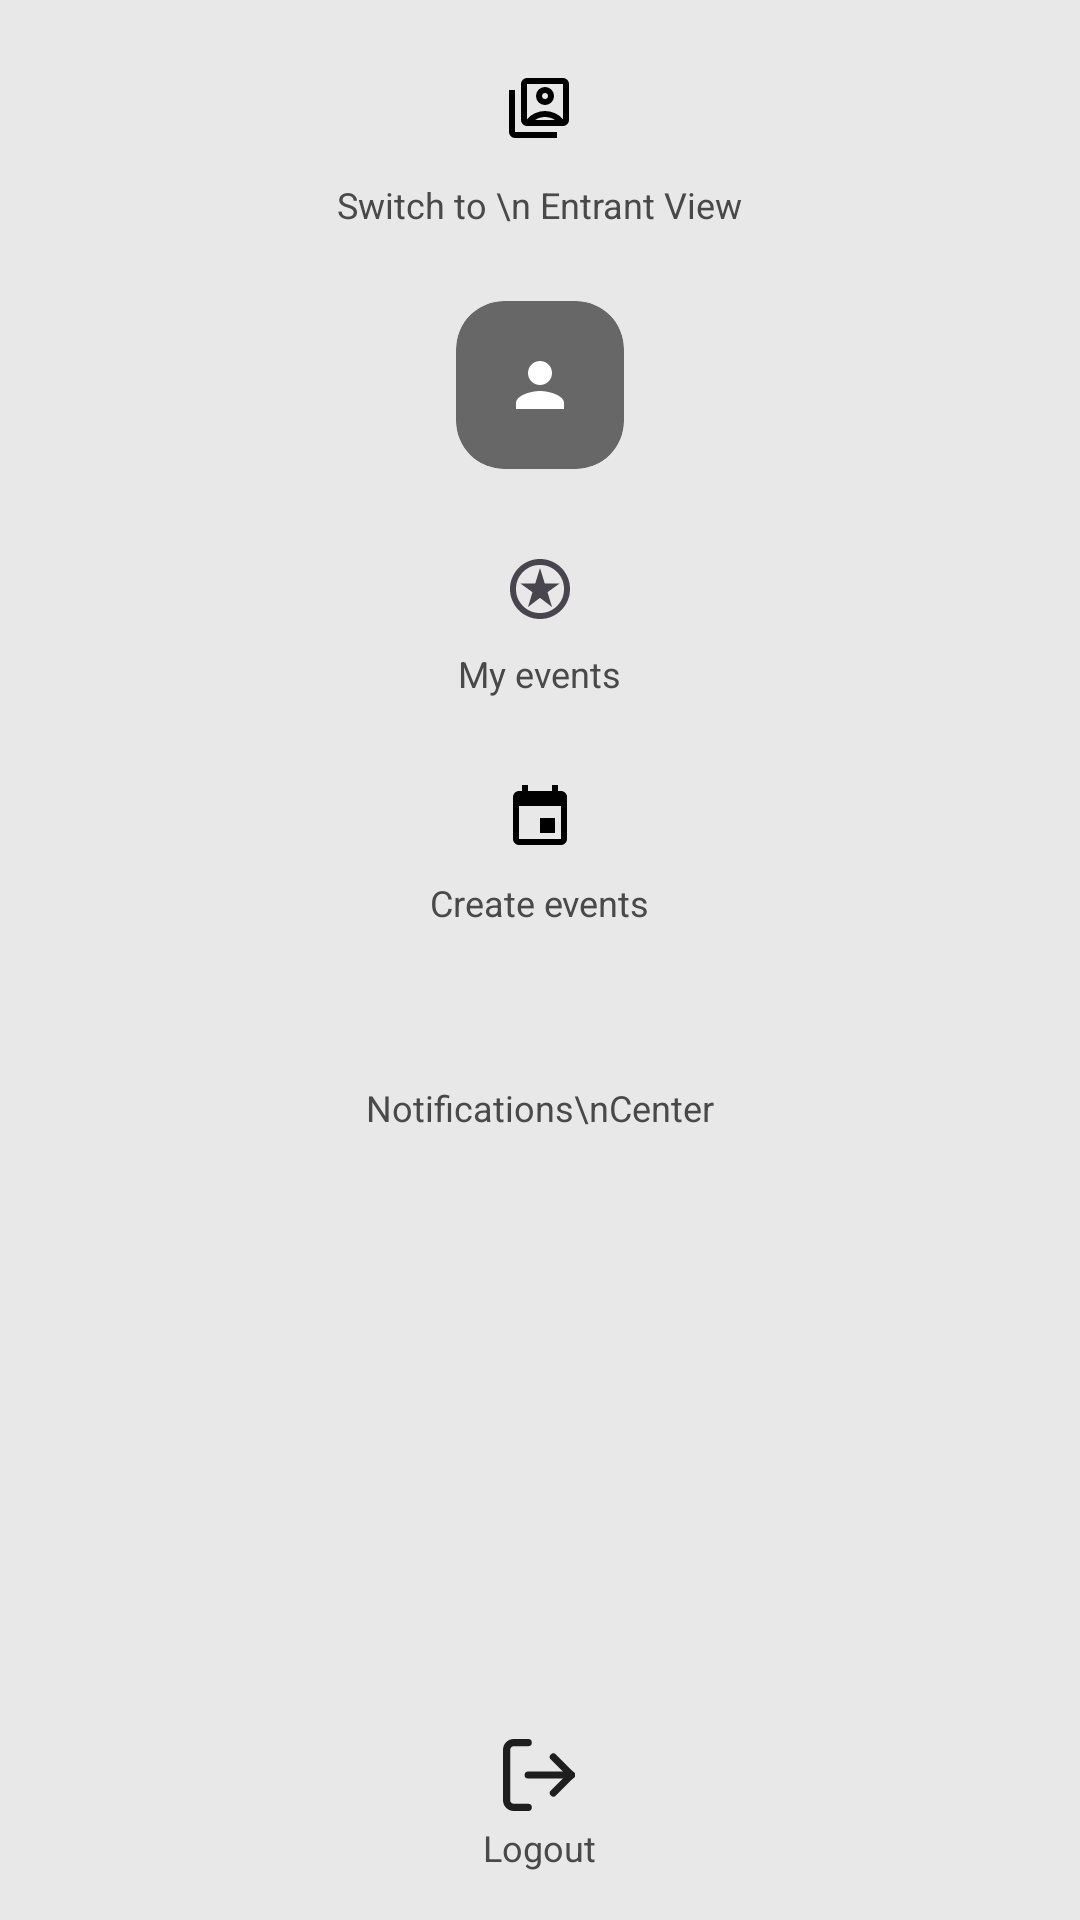

Icons on this 1080*1920 Android screen, each with its box as [x1, y1, x2, y2]:
calender: [513, 785, 567, 845]
person: [516, 361, 564, 409]
star: [510, 559, 570, 619]
switch account: [509, 78, 569, 138]
